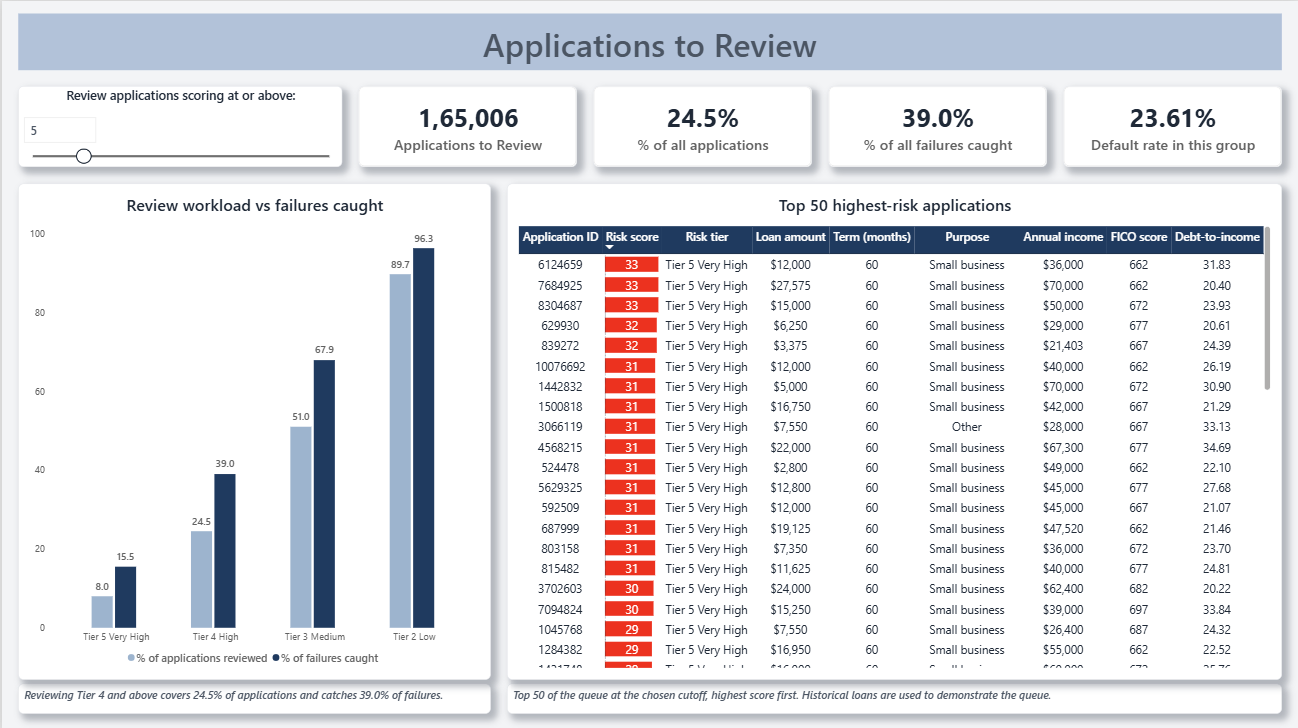

What the dashboard file says about the page in this screenshot:
{"tool":"powerbi","page":{"name":"Review Queue","canvas":[1920,1080],"ordinal":3},"visuals":[{"type":"textbox","box":[24,18,1872,84],"z":0},{"type":"textbox","box":[24,1011,700,45],"z":1000},{"type":"textbox","box":[748.1,1011.1,1148.1,45],"z":2000},{"type":"slicer","title":"Review applications scoring at or above:","fields":{"Values":["Review cutoff.Review cutoff"]},"box":[24.1,126,480,120],"z":3000},{"type":"cardVisual","fields":{"Data":["loans_dashboard.Applications to Review"]},"box":[528,126,324,120],"z":4000},{"type":"cardVisual","fields":{"Data":["loans_dashboard.Pct of Applications"]},"box":[876,126,324,120],"z":5000},{"type":"cardVisual","fields":{"Data":["loans_dashboard.Pct of Failures Caught"]},"box":[1224,126,324,120],"z":6000},{"type":"cardVisual","fields":{"Data":["loans_dashboard.Review Group Default Rate"]},"box":[1572,126,324,120],"z":7000},{"type":"clusteredColumnChart","title":"Review workload vs failures caught","fields":{"Category":["tier_summary.risk_tier"],"Y":["Sum(tier_summary.pct_apps_reviewed)","Sum(tier_summary.pct_defaults_caught)"]},"box":[24.1,270,700,735],"z":8000},{"type":"tableEx","title":"Top 50 highest-risk applications","fields":{"Values":["loans_dashboard.id","loans_dashboard.risk_score","loans_dashboard.risk_tier","loans_dashboard.loan_amnt","loans_dashboard.term_months","loans_dashboard.purpose_label","loans_dashboard.annual_inc","loans_dashboard.fico_avg","loans_dashboard.dti"]},"box":[748.1,270.4,1148.1,735],"z":9000}]}

Visuals, with their boxes in screenshot pixels (x1, y1, x2, y2), scaled from the page's 1920x1080 canvas onto the 1298x728 screenshot:
textbox: box(16, 12, 1282, 69)
textbox: box(16, 681, 489, 712)
textbox: box(506, 682, 1282, 712)
"Review applications scoring at or above:" slicer: box(16, 85, 341, 166)
cardVisual - loans_dashboard.Applications to Review: box(357, 85, 576, 166)
cardVisual - loans_dashboard.Pct of Applications: box(592, 85, 811, 166)
cardVisual - loans_dashboard.Pct of Failures Caught: box(827, 85, 1047, 166)
cardVisual - loans_dashboard.Review Group Default Rate: box(1063, 85, 1282, 166)
"Review workload vs failures caught" clusteredColumnChart: box(16, 182, 490, 677)
"Top 50 highest-risk applications" tableEx: box(506, 182, 1282, 678)
